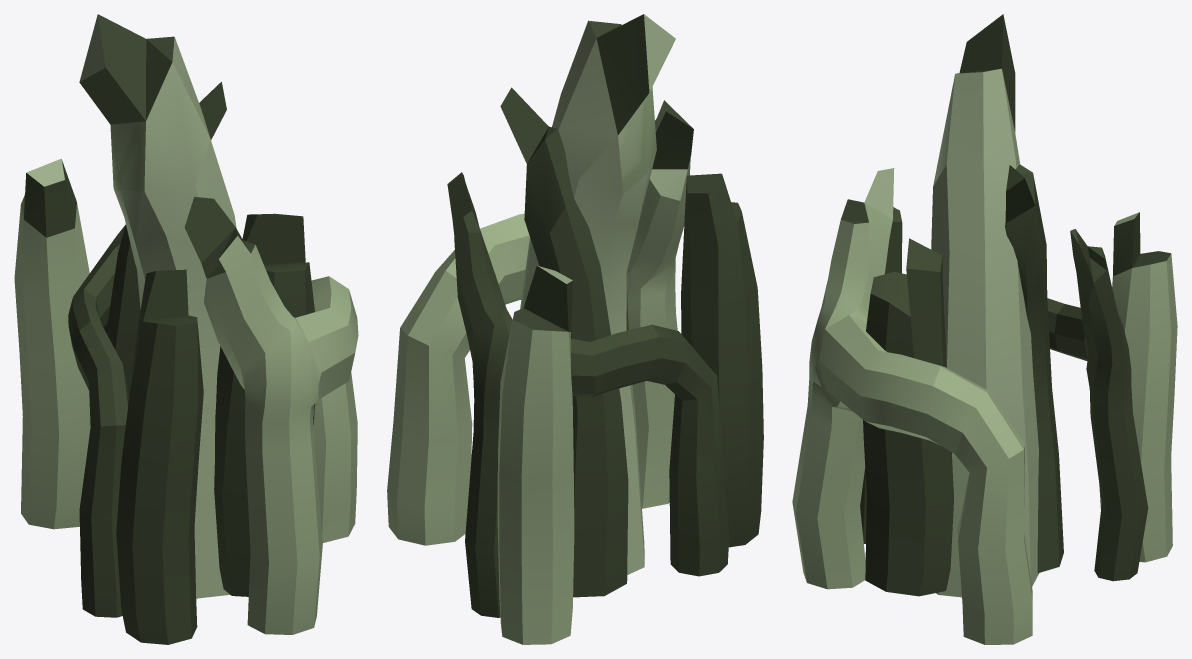
File: EA_Swamp_Root_05a.glb
3 renders of one model, left to right at view 1: azimuth 30°, elevation 25°; view 2: azimuth 150°, elevation 25°; view 3: azimuth 270°, elevation 25°, orthographic. The views are drawn at different scales.
Visible parts, largest first — view 1: EA_Swamp_Root_05a; view 2: EA_Swamp_Root_05a; view 3: EA_Swamp_Root_05a.
Part boxes in pixels (<box>): EA_Swamp_Root_05a: <box>14,14,358,644</box>; EA_Swamp_Root_05a: <box>387,14,763,644</box>; EA_Swamp_Root_05a: <box>792,14,1177,644</box>.
Bounding box in the file's own units: 1.57 × 2.89 × 1.93.
Materials: 1 (1 with a texture image).
